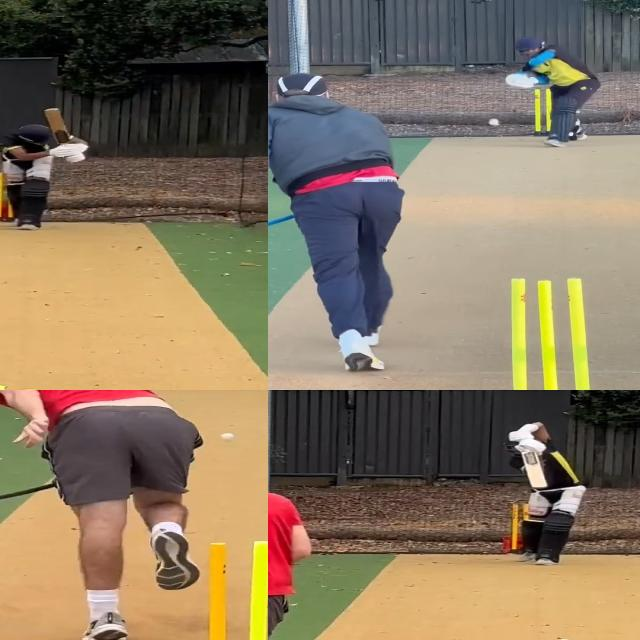Cricket ball: (218, 432, 236, 442), (487, 117, 502, 127), (551, 637, 577, 640)
Stumps: (494, 271, 609, 390), (193, 538, 268, 640), (533, 87, 555, 138)
